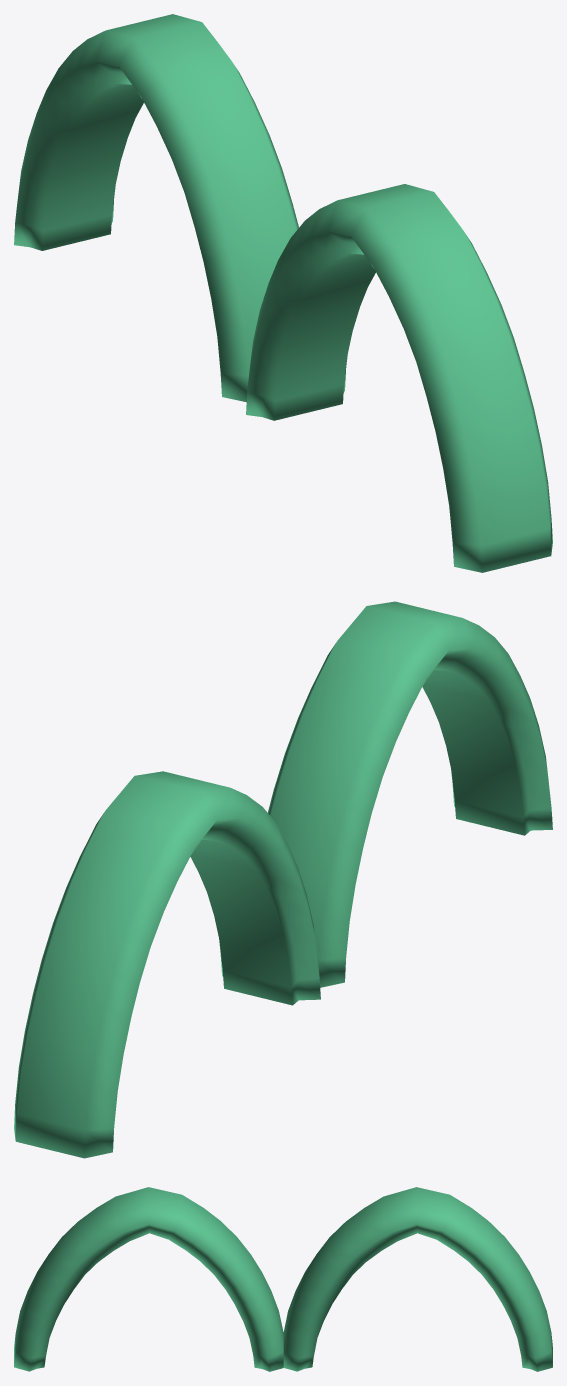
File: Wall_Arc_05D_Lod0.fbx
3 renders of one model, top to bottom at view 1: azimuth 30°, elevation 25°; view 2: azimuth 150°, elevation 25°; view 3: azimuth 270°, elevation 25°, orthographic. The views are drawn at different scales.
Visible parts, largest first — view 1: Wall_Arc_05D_Lod0; view 2: Wall_Arc_05D_Lod0; view 3: Wall_Arc_05D_Lod0.
Boxes of the visible parts, x1,y1,x2,y2 form: Wall_Arc_05D_Lod0: [14, 14, 552, 572]; Wall_Arc_05D_Lod0: [14, 601, 552, 1158]; Wall_Arc_05D_Lod0: [14, 1187, 552, 1371].
Bounding box in the file's own units: 49.88 × 135 × 407.
